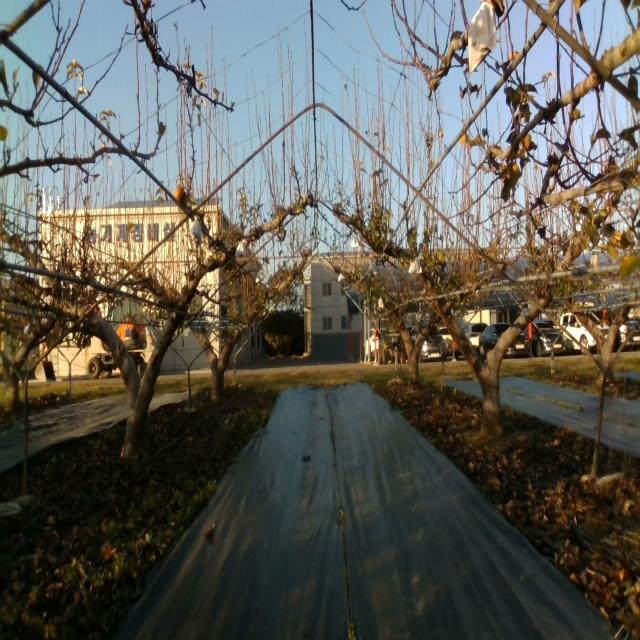pearbags: (468, 0, 497, 77), (190, 215, 203, 249), (408, 252, 423, 275), (234, 239, 247, 259)
